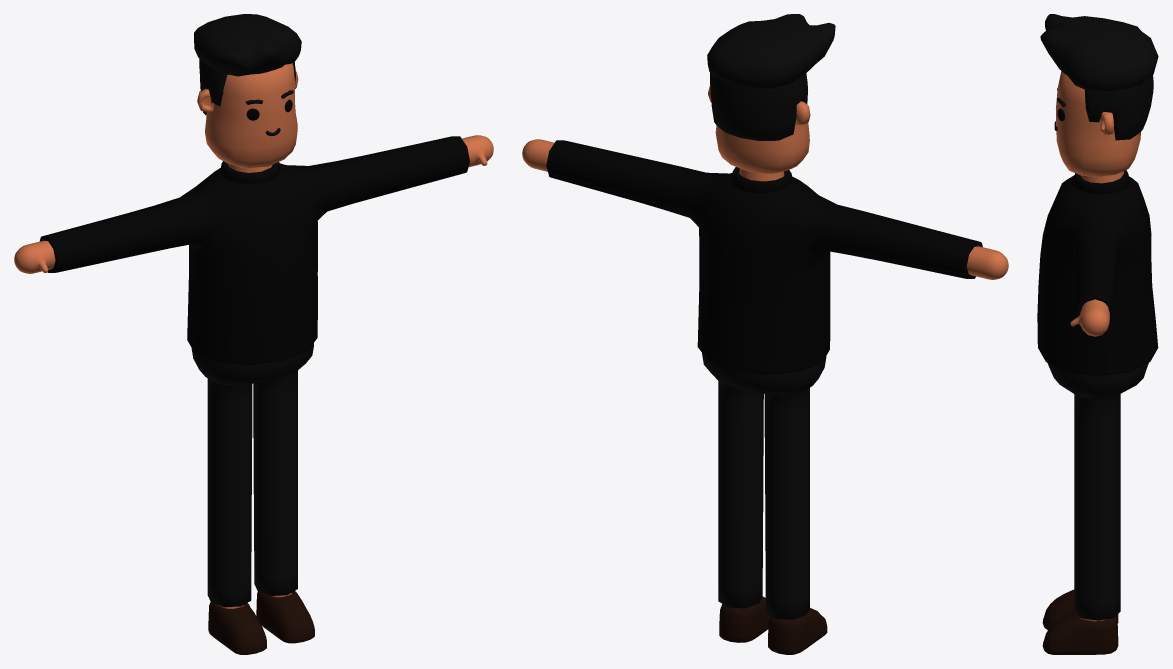
Rendered from male (2).obj.
3 renders of one model, left to right at view 1: azimuth 30°, elevation 25°; view 2: azimuth 150°, elevation 25°; view 3: azimuth 270°, elevation 25°, orthographic.
Visible parts, largest first — view 1: Char_Tshirt, Char_Pant, Char_Head, Char_Hair, Char_Shoe_R, Char_Shoe_L, Char_Hand_R, Char_Hand_L; view 2: Char_Tshirt, Char_Pant, Char_Hair, Char_Head, Char_Shoe_R, Char_Shoe_L, Char_Hand_R, Char_Hand_L; view 3: Char_Tshirt, Char_Pant, Char_Hair, Char_Head, Char_Shoe_L, Char_Hand_L, Char_Shoe_R.
Part boxes in pixels (x1,y1,x2,y2): Char_Tshirt: (39, 136, 469, 364); Char_Pant: (191, 343, 313, 607); Char_Head: (197, 63, 298, 172); Char_Hair: (194, 14, 301, 114); Char_Shoe_R: (208, 602, 266, 654); Char_Shoe_L: (256, 591, 314, 643); Char_Hand_R: (14, 240, 55, 273); Char_Hand_L: (462, 135, 493, 167); Char_Tshirt: (546, 140, 982, 374); Char_Pant: (702, 353, 826, 619); Char_Hair: (707, 14, 835, 141); Char_Head: (708, 85, 810, 181); Char_Shoe_R: (768, 608, 827, 654); Char_Shoe_L: (719, 596, 770, 642); Char_Hand_R: (966, 246, 1008, 279); Char_Hand_L: (522, 139, 554, 171); Char_Tshirt: (1037, 170, 1158, 375); Char_Pant: (1047, 362, 1148, 620); Char_Hair: (1040, 14, 1158, 140); Char_Head: (1056, 71, 1140, 183); Char_Shoe_L: (1042, 612, 1118, 654); Char_Hand_L: (1070, 299, 1109, 336); Char_Shoe_R: (1042, 589, 1118, 629).
Bounding box in the file's own units: 1.4 × 1.7 × 0.3091.
